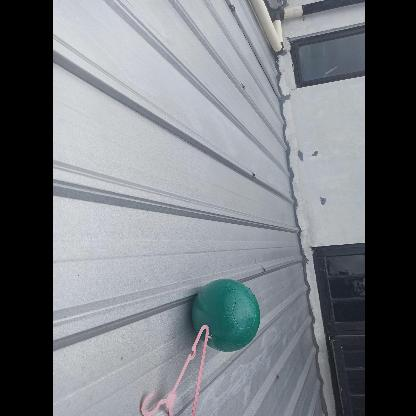green_ball: (192, 279, 264, 351)
